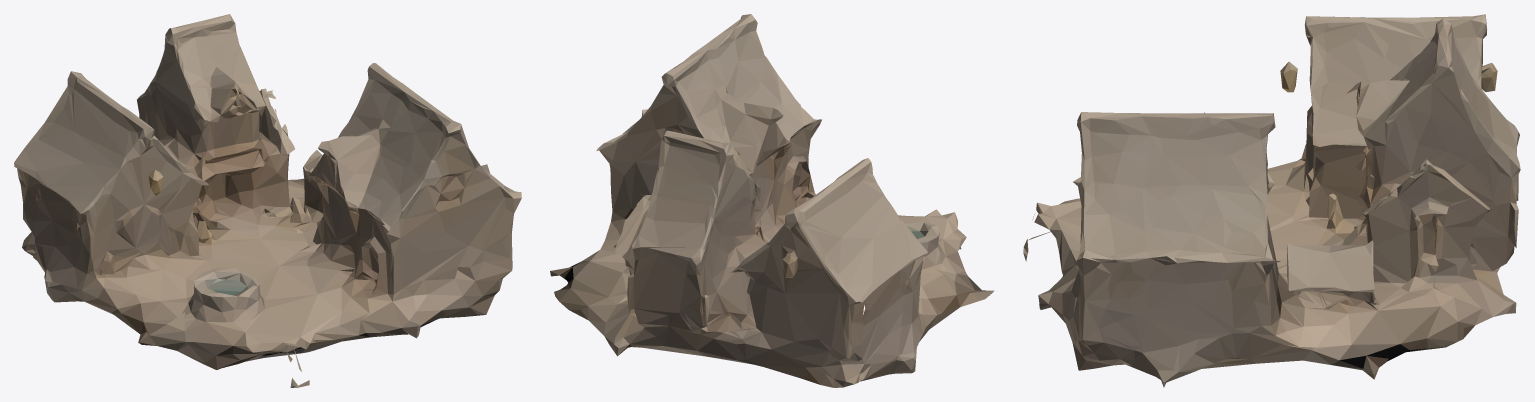
The model's file is elf_town.glb.
3 views of the same model, side by side, from view 1: azimuth 30°, elevation 25°; view 2: azimuth 150°, elevation 25°; view 3: azimuth 270°, elevation 25° (orthographic). The views are drawn at different scales.
Visible parts, largest first — view 1: geometry_0; view 2: geometry_0; view 3: geometry_0.
Part boxes in pixels (bbox=[...]): geometry_0: bbox=[14, 14, 521, 387]; geometry_0: bbox=[550, 14, 994, 387]; geometry_0: bbox=[1023, 14, 1520, 387].
Bounding box in the file's own units: 1.86 × 1.11 × 1.86.
